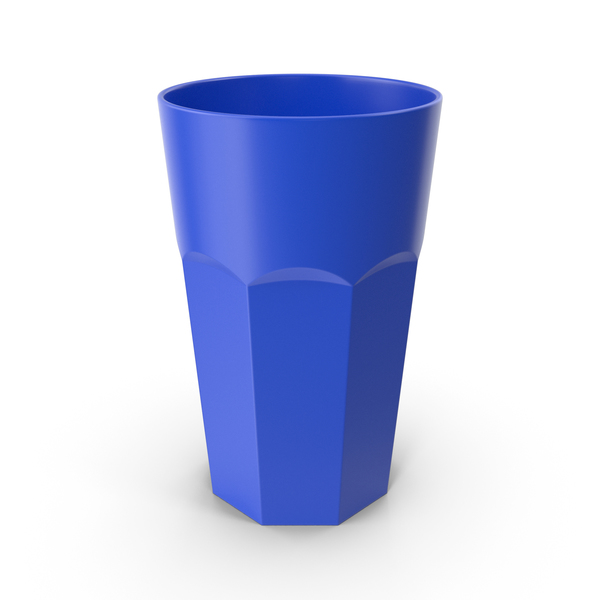plastic_glass: (154, 68, 449, 534)
